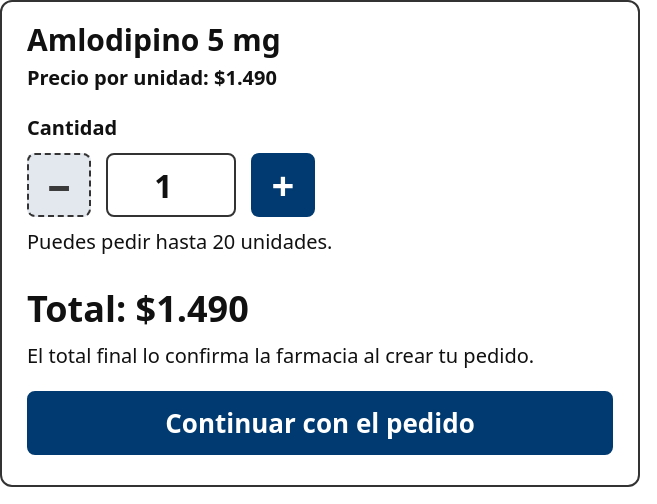
SelectorCantidad › escenario feliz: elegir cantidad y ver el total › escribir una cantidad en el campo actualiza el total
Replace the text in the number field labelled "Cantidad" with "5" at (171, 185), box [106,153,236,217]
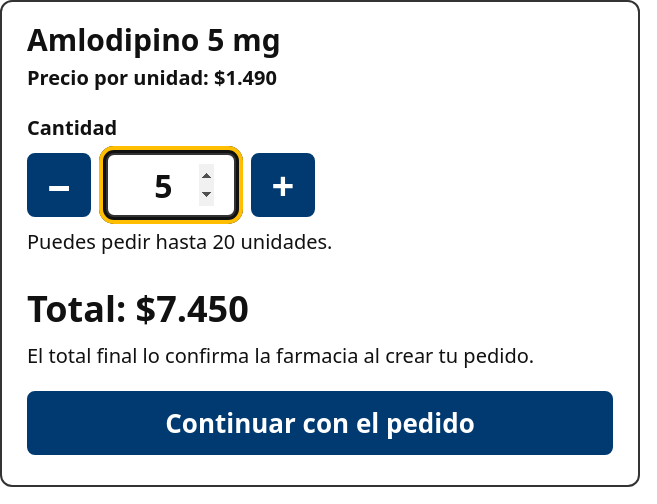
Result: the text "Total: $7.450" is shown at [27,284,249,333]
